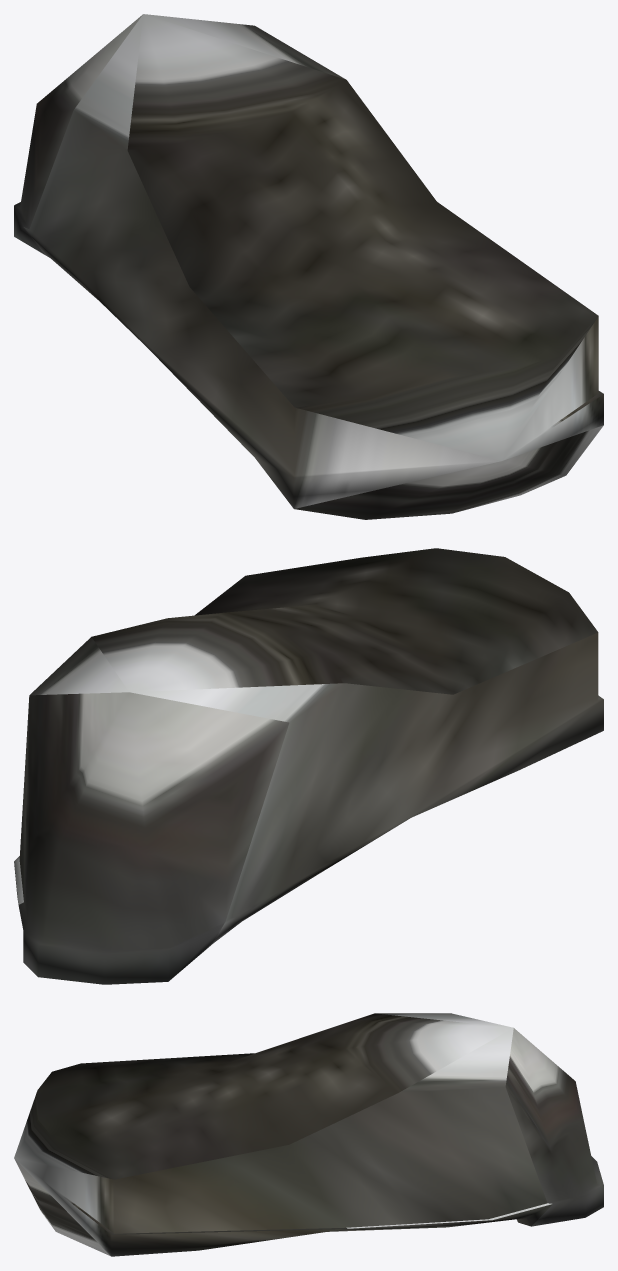
The model's file is foot.fbx.
The picture shows the model from 3 angles, top to bottom: view 1: azimuth 30°, elevation 25°; view 2: azimuth 150°, elevation 25°; view 3: azimuth 270°, elevation 25°; orthographic projection. The views are drawn at different scales.
Parts seen in each view (by area): view 1: Mesh_005; view 2: Mesh_005; view 3: Mesh_005.
Part boxes in pixels (box(x1,y1,x2,y2)): Mesh_005: box(14, 14, 603, 519); Mesh_005: box(14, 548, 603, 984); Mesh_005: box(14, 1013, 603, 1256).
Size of the model in its own units: 2.52 by 1.76 by 5.5.
